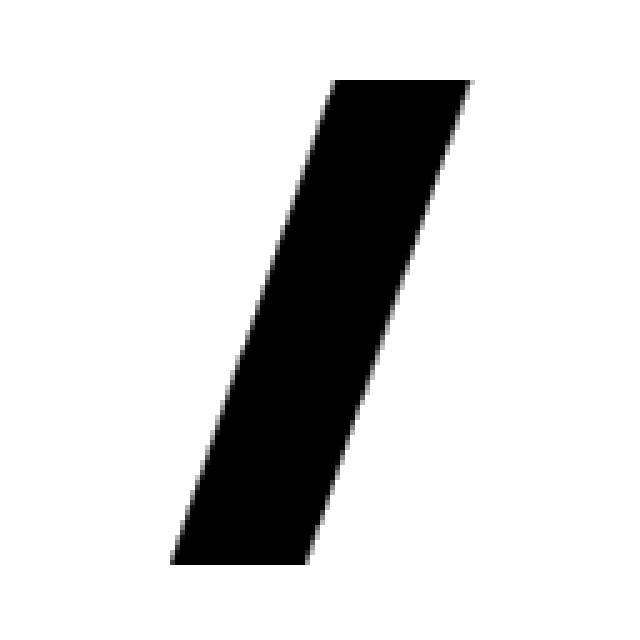L: (168, 78, 476, 566)
